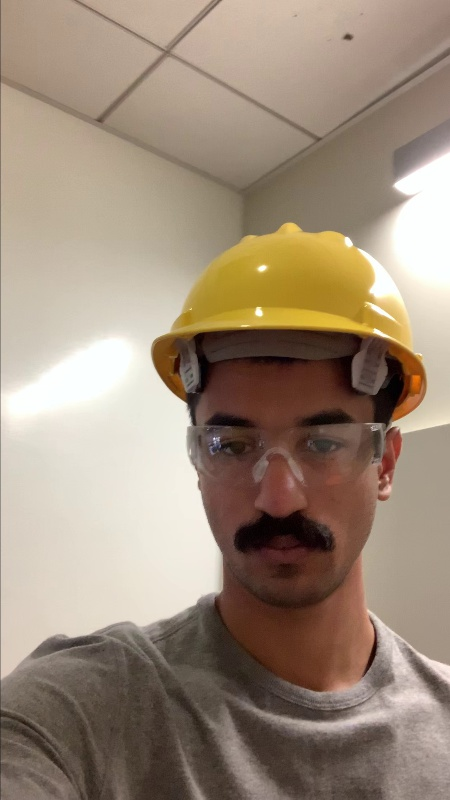glasses: (177, 415, 386, 473)
helmet: (158, 226, 411, 344)
